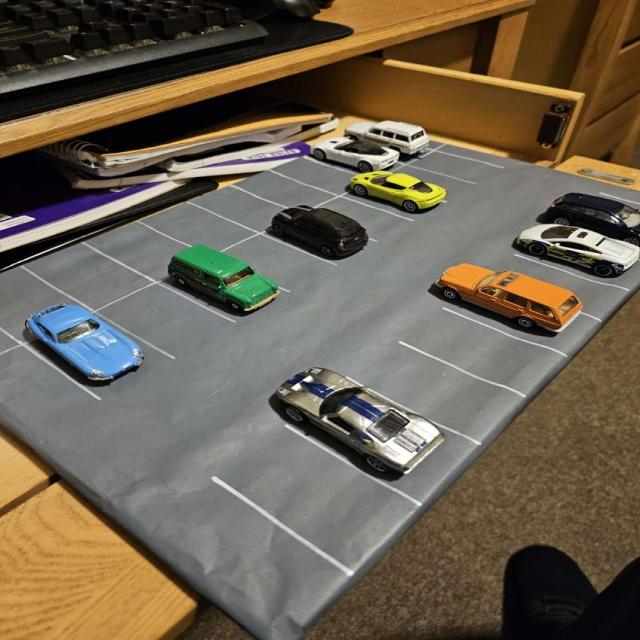Empty: (207, 425, 428, 583), (343, 341, 528, 447), (400, 306, 569, 399), (90, 280, 239, 361), (476, 255, 636, 323), (19, 242, 159, 313), (80, 220, 214, 284), (208, 233, 345, 295), (0, 266, 95, 348), (131, 201, 263, 255), (310, 193, 424, 247), (227, 169, 344, 214), (191, 184, 292, 234), (268, 157, 378, 196), (400, 150, 507, 185)
Taken: (280, 375, 481, 504), (19, 309, 176, 401), (437, 274, 604, 358), (152, 254, 297, 323), (512, 226, 640, 292), (252, 210, 384, 266), (541, 189, 640, 245), (335, 178, 452, 221), (304, 142, 409, 179), (340, 127, 436, 166)
